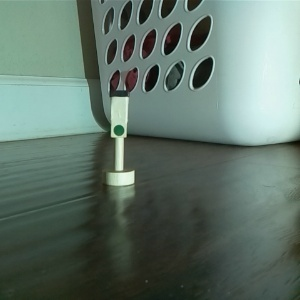traffic light green: (100, 88, 137, 189)
